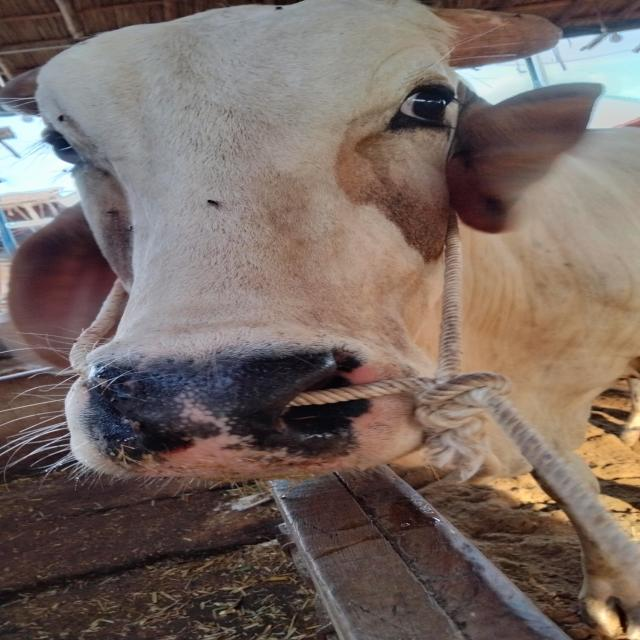muzzles: (75, 336, 410, 481)
